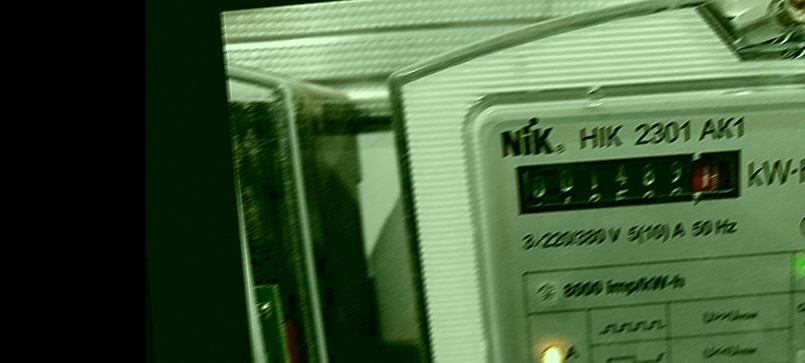0: (557, 166, 576, 192), (531, 172, 548, 199)
1: (586, 162, 603, 192), (698, 158, 713, 189)
4: (613, 161, 631, 188)
8: (639, 158, 658, 187)
9: (668, 158, 685, 184)
screen: (500, 133, 762, 232)
